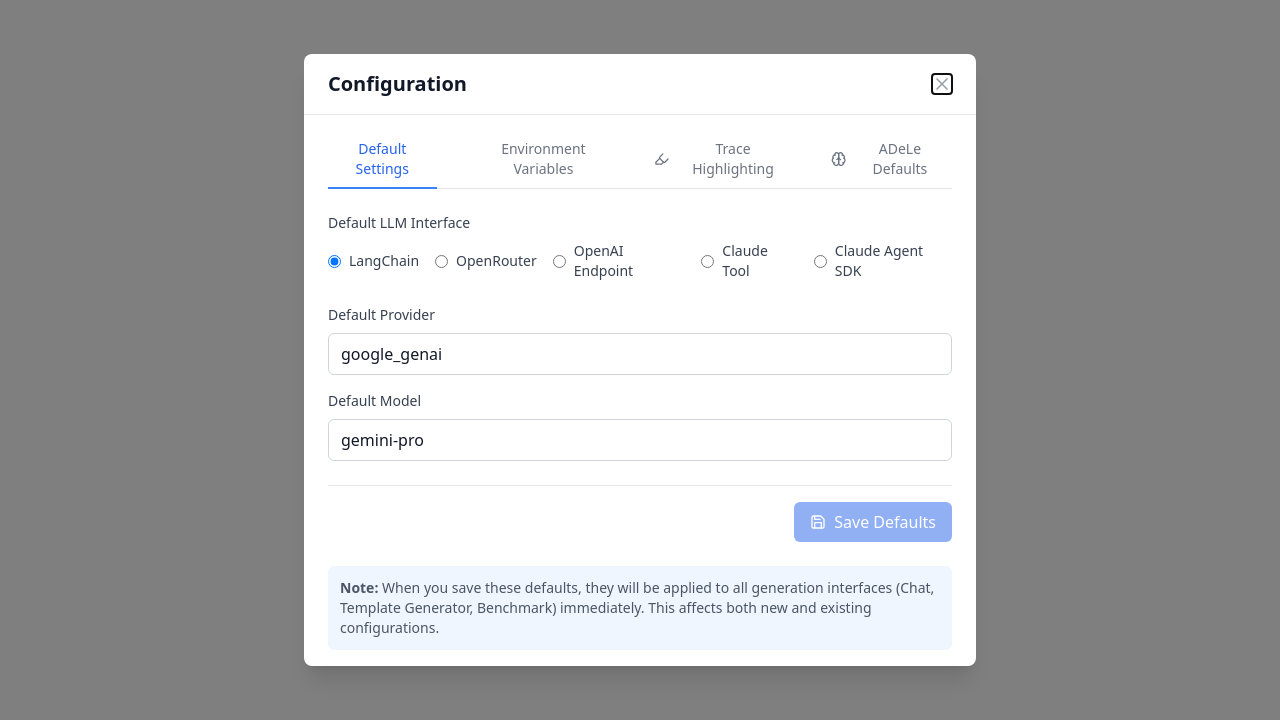
Ground Truth Exposure Toggle › shows toggle as unchecked when environment variable is false
The image size is (1280, 720).
# Click on the Environment Variables tab
Click the button "Environment Variables". click: (543, 160)
box: [468,131,618,189]
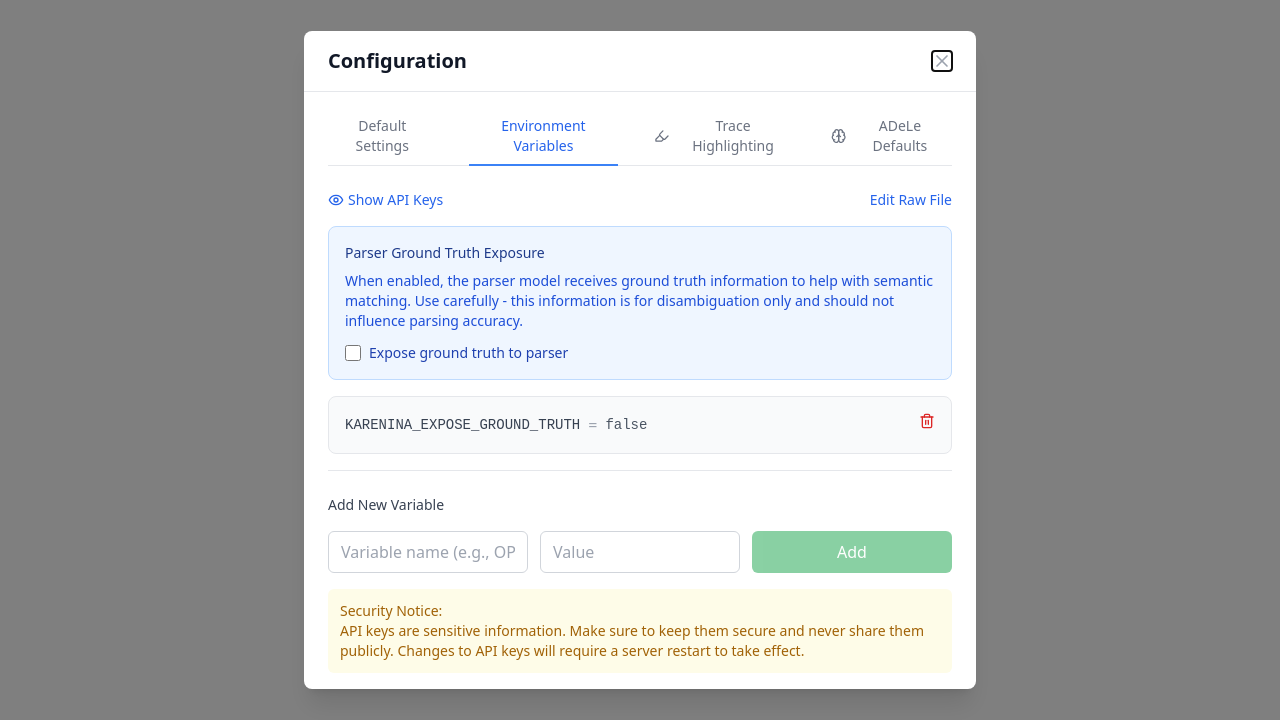
Result: the checkbox labelled "Expose ground truth to parser" is not checked at [345,345,361,361]
